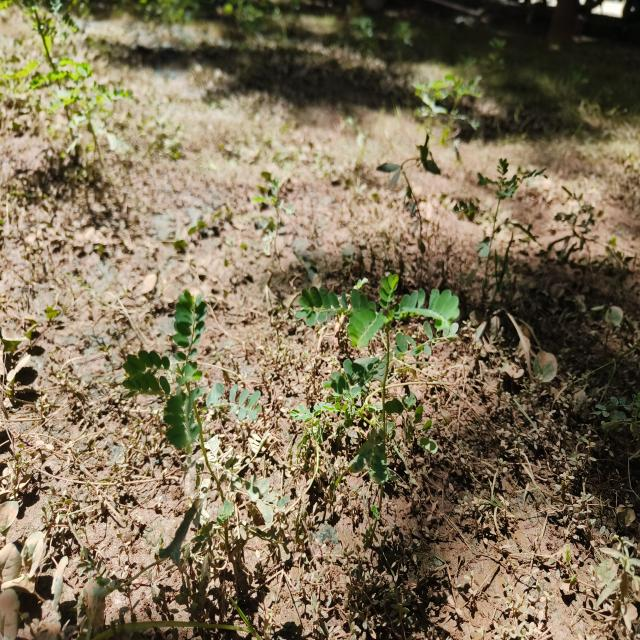weed: (302, 273, 469, 479), (124, 293, 266, 485)
